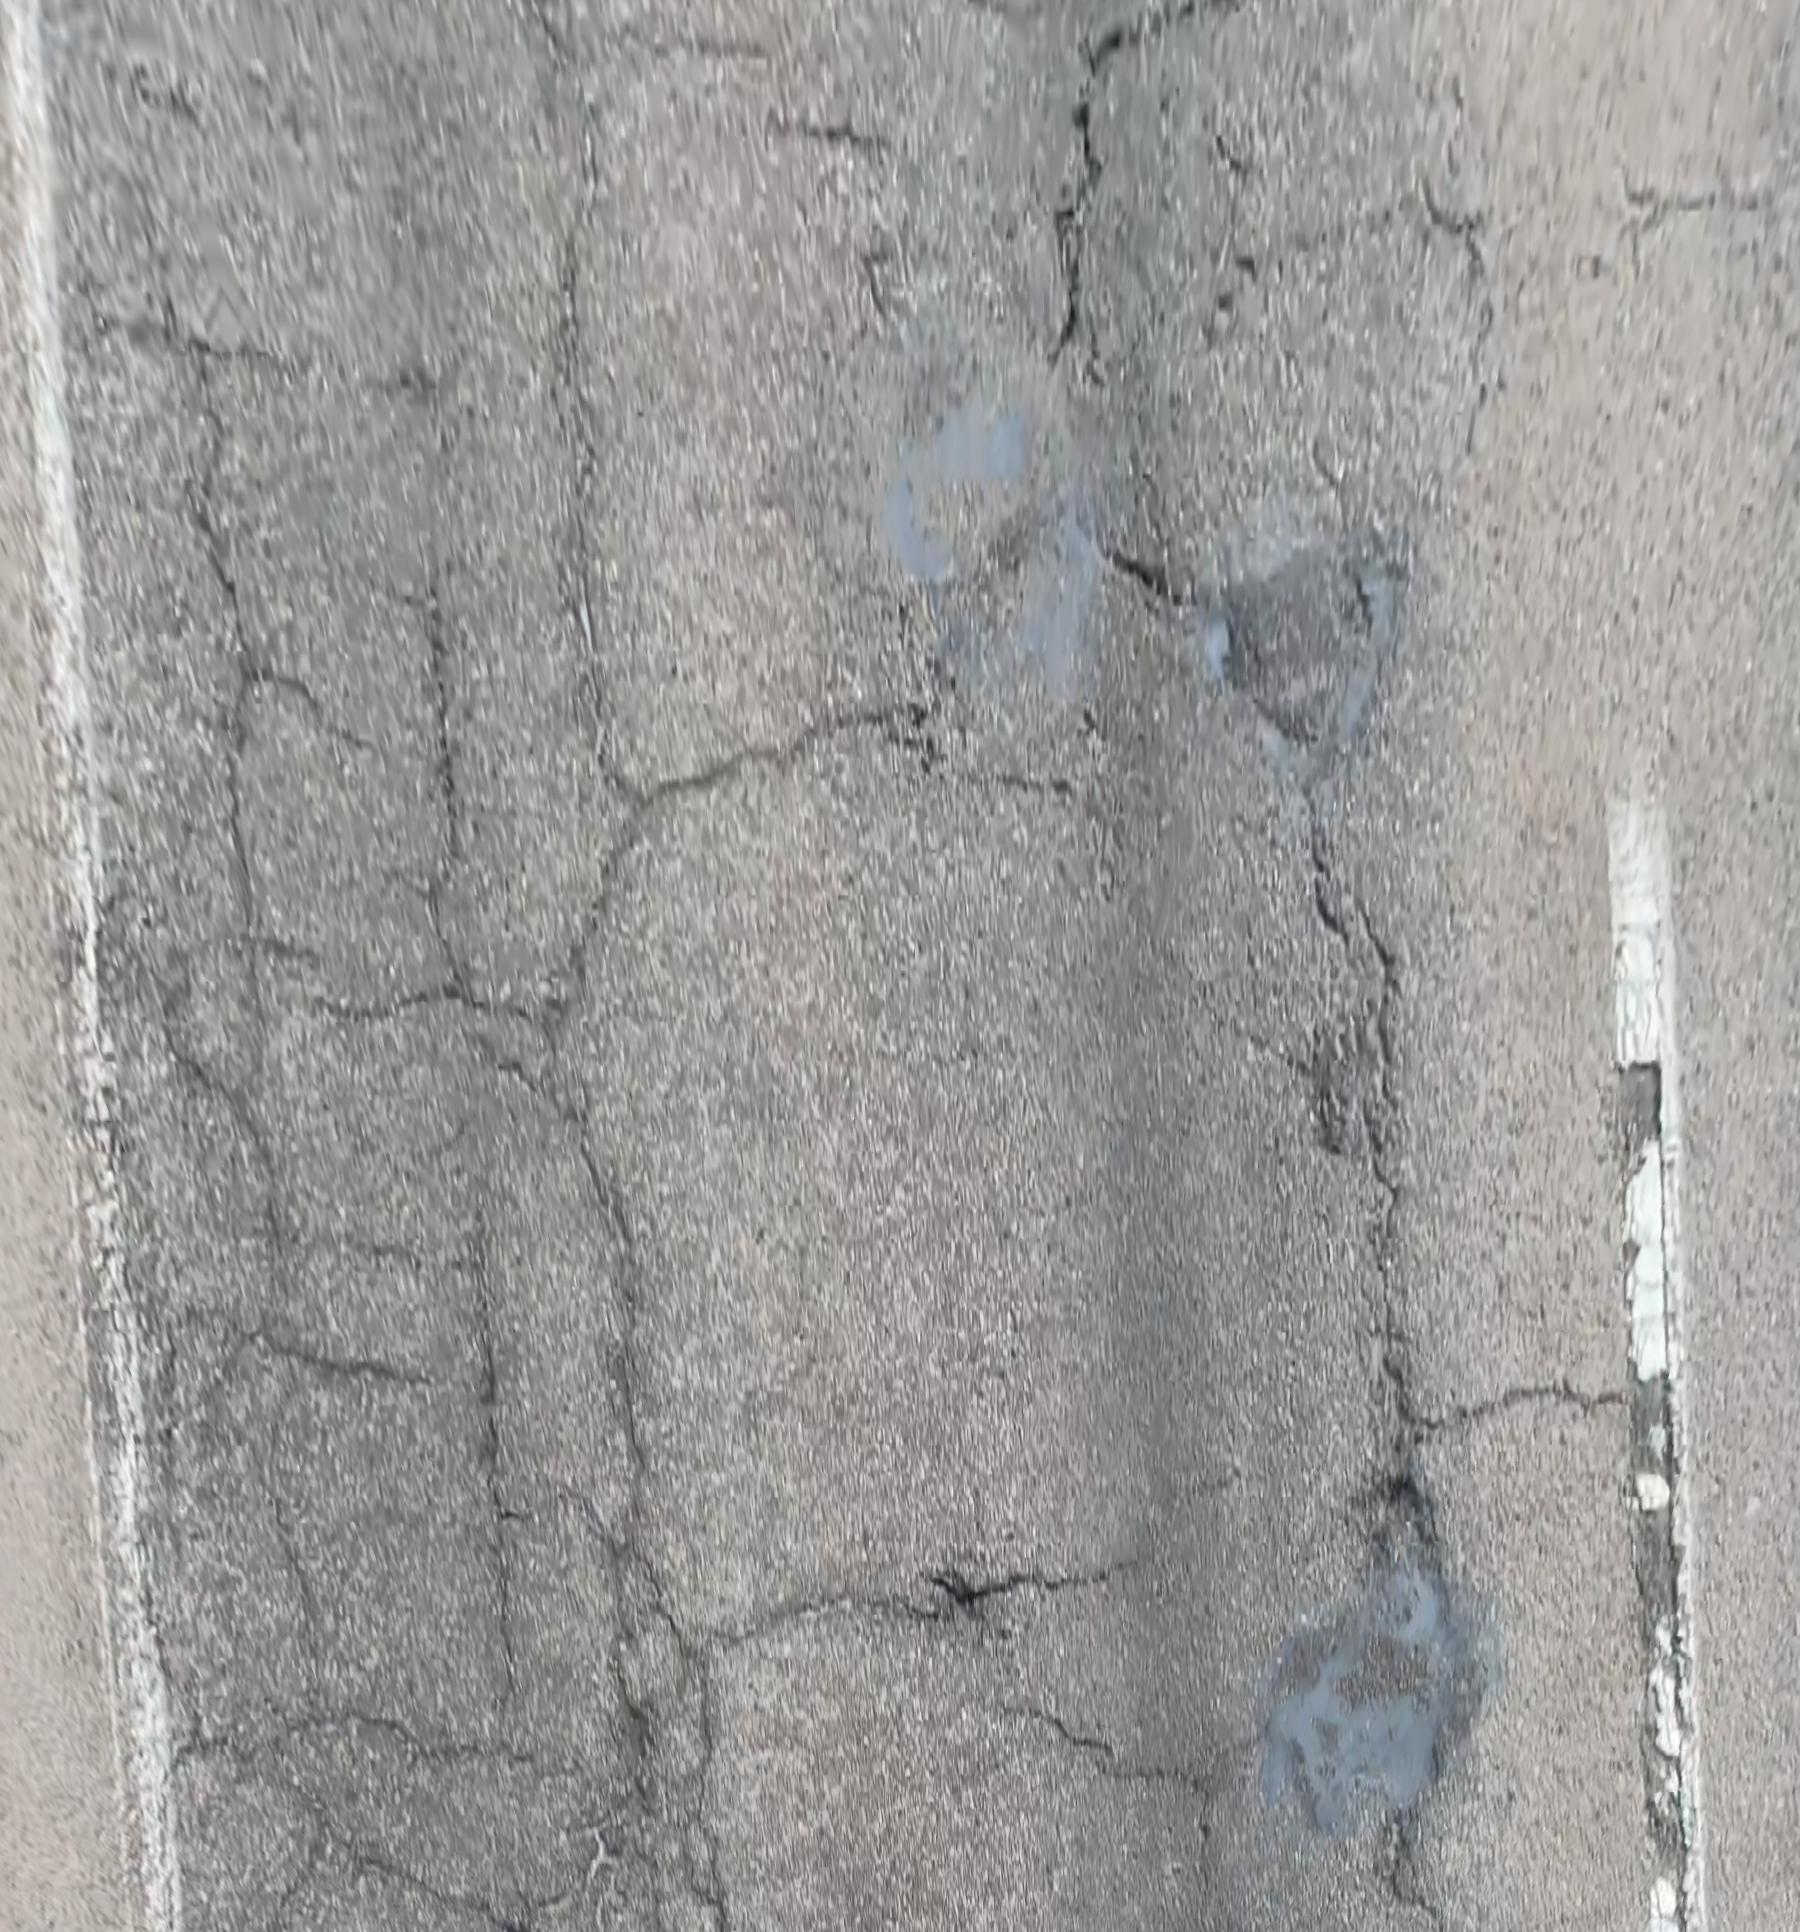pothole_patch_good: (1252, 1565, 1472, 1854), (1208, 501, 1406, 783), (868, 387, 1032, 594), (941, 514, 1098, 709)
